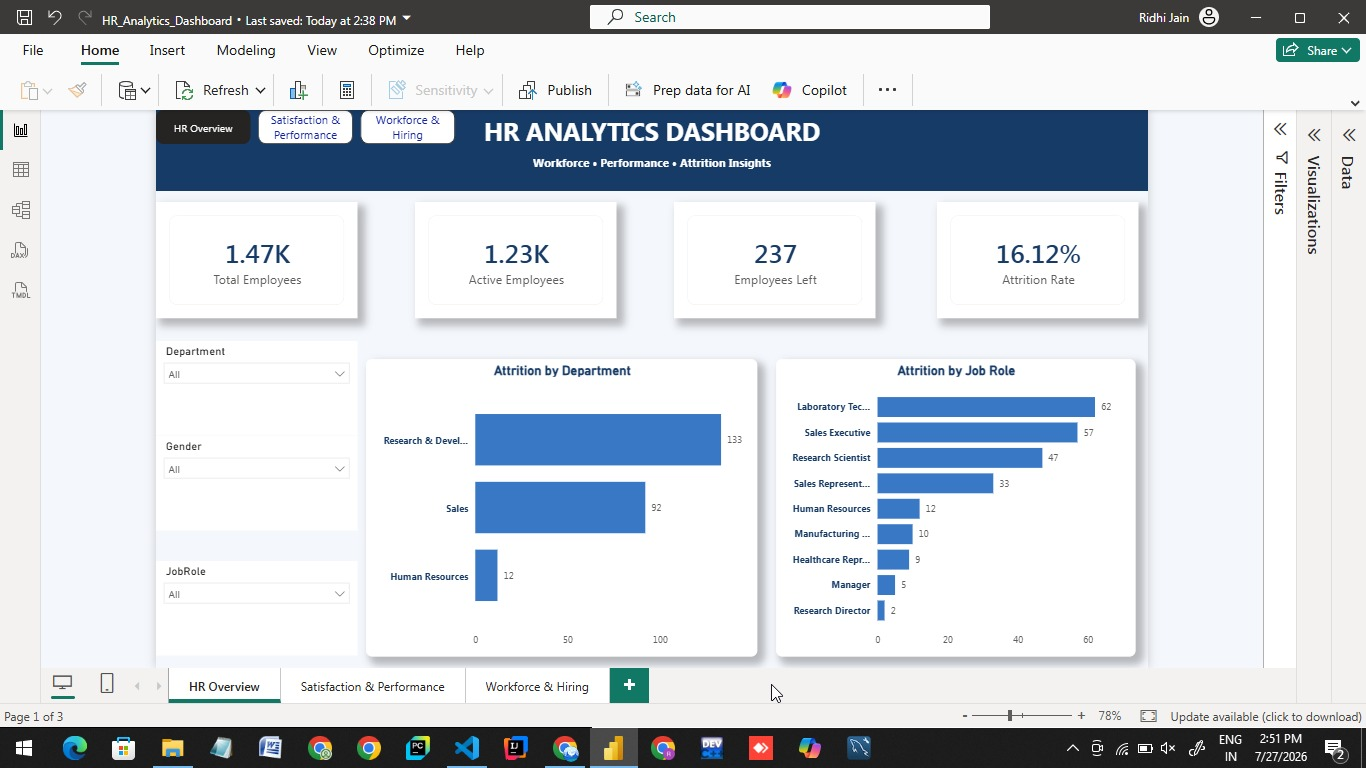

The page's visual inventory and layout, read from the dashboard file:
{"tool":"powerbi","page":{"name":"HR Overview","canvas":[1280,720],"ordinal":0},"visuals":[{"type":"shape","box":[0,0,1280,104.5],"z":0},{"type":"textbox","box":[0,0,1280,89],"z":1000},{"type":"textbox","box":[0,52.9,1280,36.1],"z":2000},{"type":"cardVisual","fields":{"Data":["WA_Fn-UseC_-HR-Employee-Attrition.Total Employees"]},"box":[0,118.4,260.1,150],"z":3000},{"type":"cardVisual","fields":{"Data":["WA_Fn-UseC_-HR-Employee-Attrition.Active Employees"]},"box":[334.5,118.4,260.1,150],"z":4000},{"type":"cardVisual","fields":{"Data":["WA_Fn-UseC_-HR-Employee-Attrition.Employees Left"]},"box":[668.9,118.4,260.1,150],"z":5000},{"type":"cardVisual","fields":{"Data":["WA_Fn-UseC_-HR-Employee-Attrition.Attrition Rate"]},"box":[1007.5,118.4,260.1,150],"z":6000},{"type":"clusteredBarChart","title":"Attrition by Department","fields":{"Category":["WA_Fn-UseC_-HR-Employee-Attrition.Department"],"Y":["WA_Fn-UseC_-HR-Employee-Attrition.Employees Left"]},"box":[271.1,320.7,505.1,384],"z":7000},{"type":"clusteredBarChart","title":"Attrition by Job Role","fields":{"Category":["WA_Fn-UseC_-HR-Employee-Attrition.JobRole"],"Y":["WA_Fn-UseC_-HR-Employee-Attrition.Employees Left"]},"box":[799.7,320.7,463.8,384],"z":8000},{"type":"slicer","fields":{"Values":["WA_Fn-UseC_-HR-Employee-Attrition.Department"]},"box":[0,298.7,260.1,122.5],"z":9000},{"type":"slicer","fields":{"Values":["WA_Fn-UseC_-HR-Employee-Attrition.Gender"]},"box":[0,421.2,260.1,122.5],"z":10000},{"type":"slicer","fields":{"Values":["WA_Fn-UseC_-HR-Employee-Attrition.JobRole"]},"box":[0,582.2,260.1,122.5],"z":11000},{"type":"pageNavigator","box":[0,0,388.1,44],"z":12000}]}

Visuals, with their boxes on the page's 1280x720 design canvas (x1, y1, x2, y2). These are canvas units, not pixel positions in the 1366x768 screenshot, which may show the page scaled, cropped or inside an application window:
shape: {"x1": 0, "y1": 0, "x2": 1280, "y2": 104}
textbox: {"x1": 0, "y1": 0, "x2": 1280, "y2": 89}
textbox: {"x1": 0, "y1": 53, "x2": 1280, "y2": 89}
cardVisual - WA_Fn-UseC_-HR-Employee-Attrition.Total Employees: {"x1": 0, "y1": 118, "x2": 260, "y2": 268}
cardVisual - WA_Fn-UseC_-HR-Employee-Attrition.Active Employees: {"x1": 334, "y1": 118, "x2": 595, "y2": 268}
cardVisual - WA_Fn-UseC_-HR-Employee-Attrition.Employees Left: {"x1": 669, "y1": 118, "x2": 929, "y2": 268}
cardVisual - WA_Fn-UseC_-HR-Employee-Attrition.Attrition Rate: {"x1": 1008, "y1": 118, "x2": 1268, "y2": 268}
"Attrition by Department" clusteredBarChart: {"x1": 271, "y1": 321, "x2": 776, "y2": 705}
"Attrition by Job Role" clusteredBarChart: {"x1": 800, "y1": 321, "x2": 1264, "y2": 705}
slicer - WA_Fn-UseC_-HR-Employee-Attrition.Department: {"x1": 0, "y1": 299, "x2": 260, "y2": 421}
slicer - WA_Fn-UseC_-HR-Employee-Attrition.Gender: {"x1": 0, "y1": 421, "x2": 260, "y2": 544}
slicer - WA_Fn-UseC_-HR-Employee-Attrition.JobRole: {"x1": 0, "y1": 582, "x2": 260, "y2": 705}
pageNavigator: {"x1": 0, "y1": 0, "x2": 388, "y2": 44}
